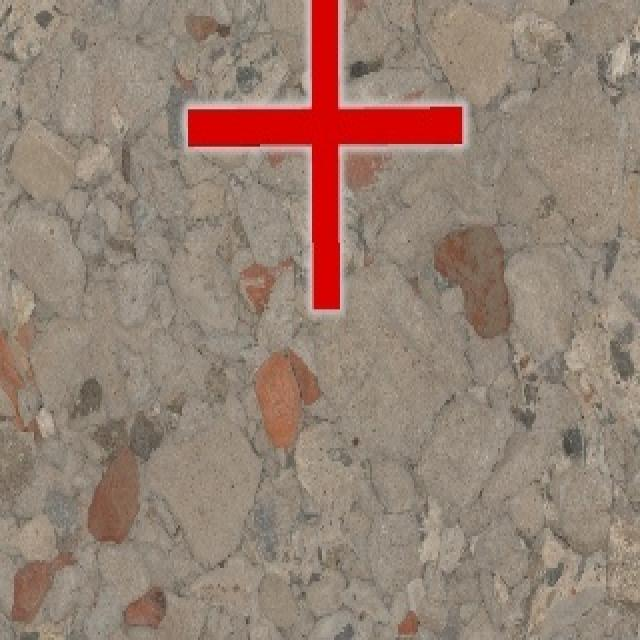x_marker: (185, 0, 463, 307)
